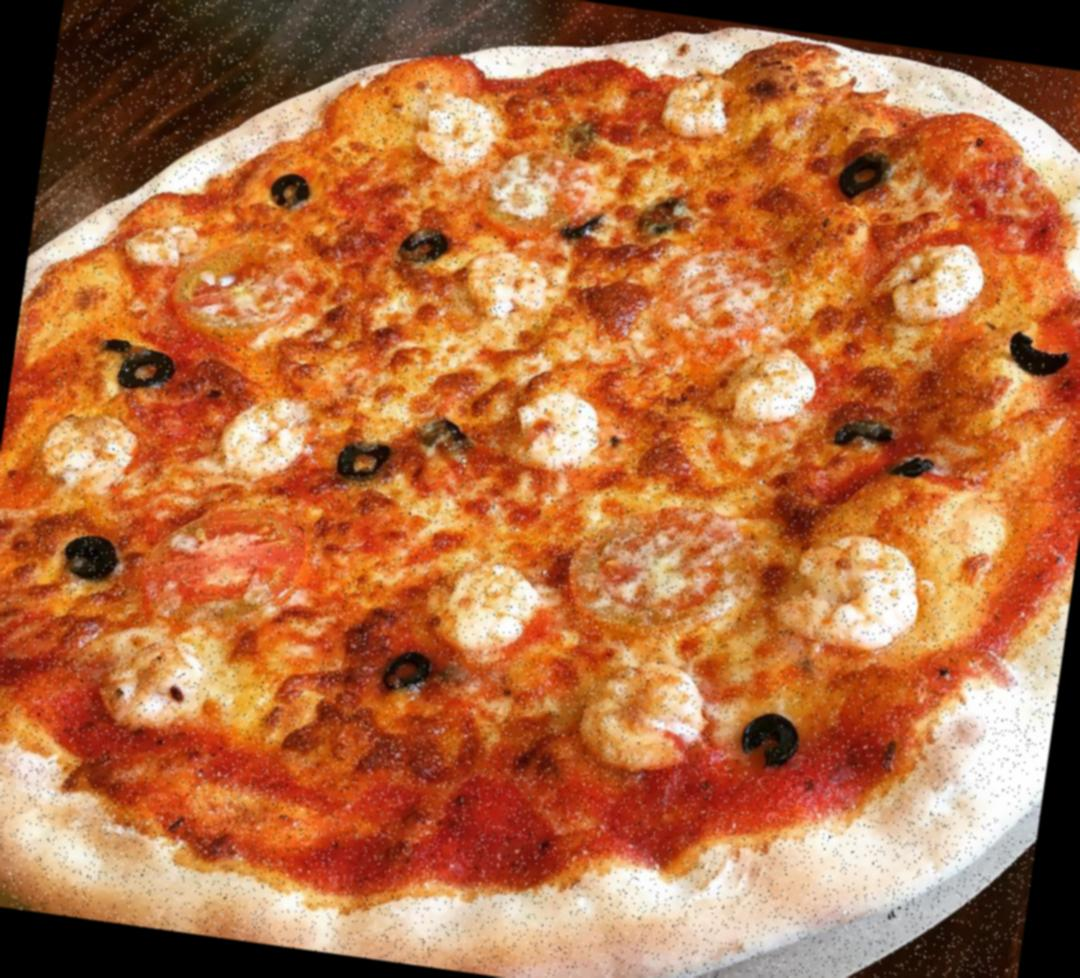Olives: (819, 410, 947, 489), (551, 181, 696, 246), (362, 633, 446, 712), (732, 700, 813, 778), (240, 162, 326, 230), (94, 338, 186, 400), (995, 310, 1080, 375), (390, 213, 468, 281), (402, 407, 490, 466), (828, 139, 900, 204), (56, 531, 123, 593), (325, 434, 399, 484)
Pizza: (0, 0, 1080, 978)
Tomatoes: (558, 496, 755, 646), (142, 495, 314, 638), (648, 244, 806, 354), (168, 235, 306, 353), (478, 142, 610, 238)
